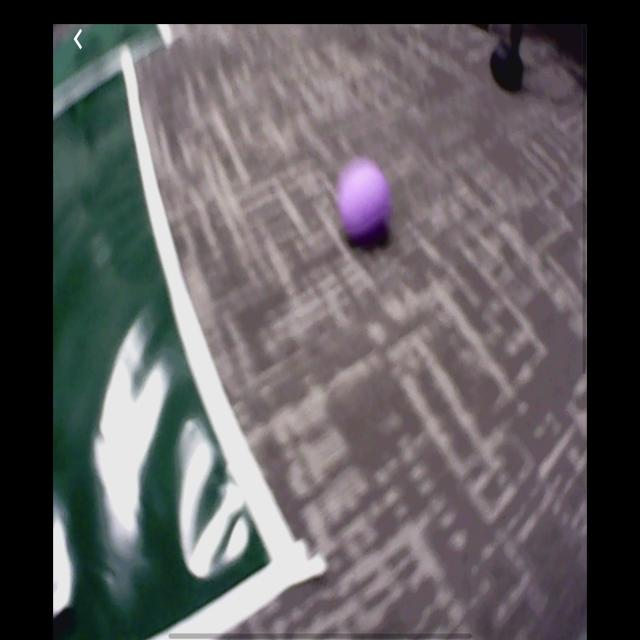ball: (336, 155, 394, 248)
